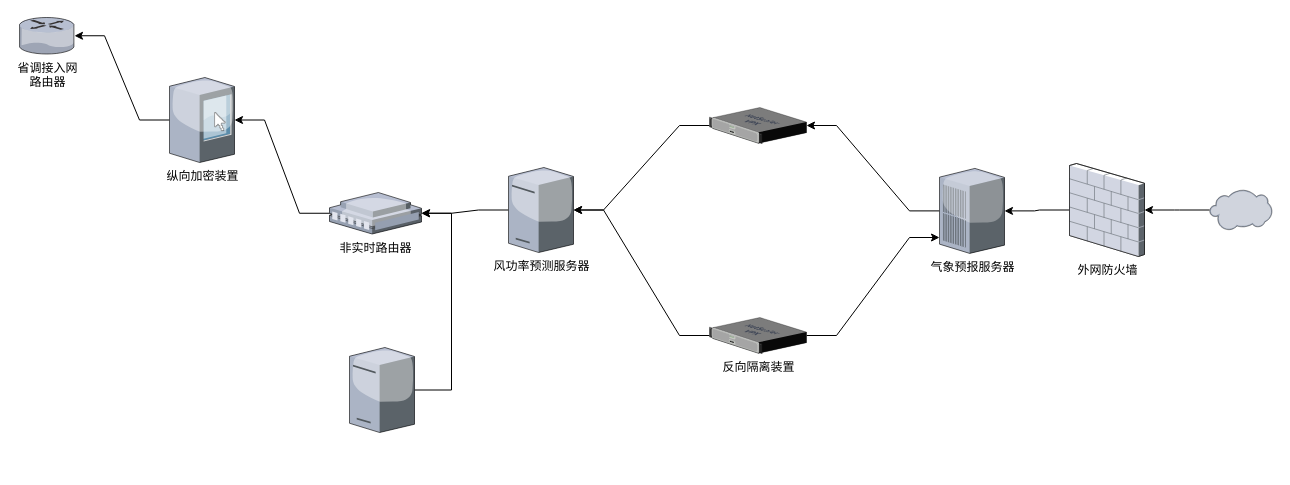
Some shapes in this 1290 by 485 pixel diagram are drawn without their labels. The centre of each missing label's shape, as x and y in pixels:
"公网云" belongs at (x=1240, y=209).
"正向隔离装置" belongs at (x=757, y=125).
"远动装置 省调/ 集控" belongs at (x=381, y=389).
